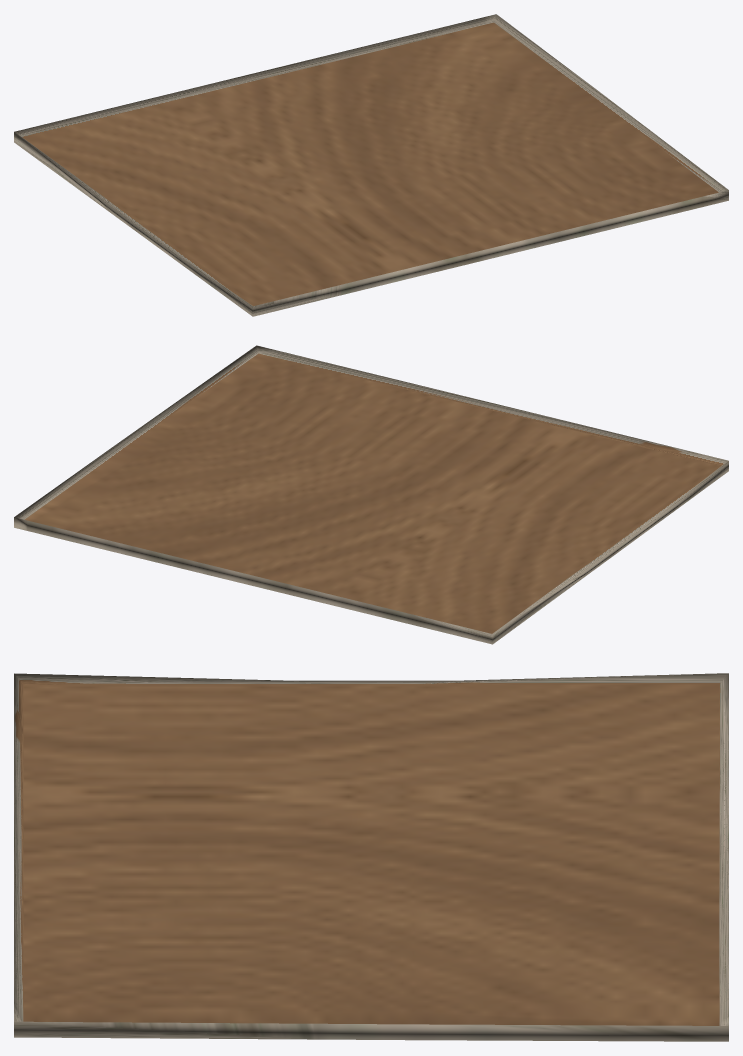
Rendered from TrongNha.fbx.
3 views of the same model, one above another, from view 1: azimuth 30°, elevation 25°; view 2: azimuth 150°, elevation 25°; view 3: azimuth 270°, elevation 25° (orthographic). The views are drawn at different scales.
Visible parts, largest first — view 1: TrongNha; view 2: TrongNha; view 3: TrongNha.
Part boxes in pixels (x1=…): TrongNha: x1=14, y1=14, x2=728, y2=316; TrongNha: x1=14, y1=345, x2=728, y2=644; TrongNha: x1=14, y1=673, x2=728, y2=1041.
Bounding box in the file's own units: 648 × 13.55 × 555.
Materials: 1 (1 with a texture image).
